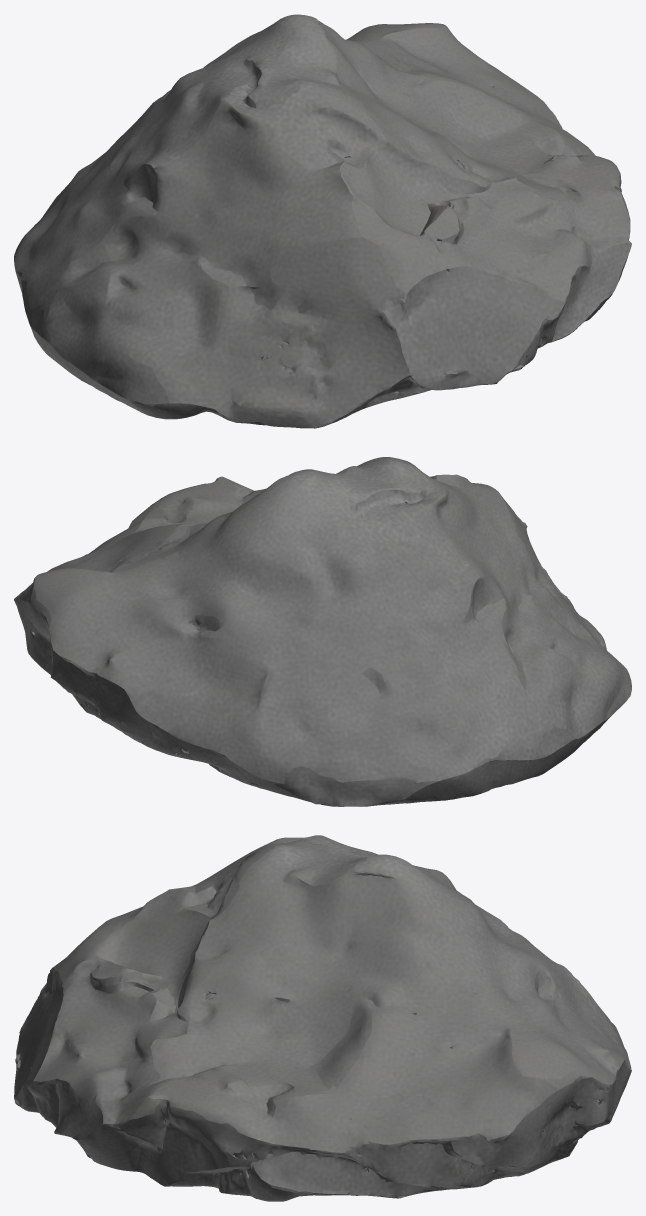
3 renders of one model, top to bottom at view 1: azimuth 30°, elevation 25°; view 2: azimuth 150°, elevation 25°; view 3: azimuth 270°, elevation 25°, orthographic. The views are drawn at different scales.
Visible parts, largest first — view 1: world; view 2: world; view 3: world.
Part boxes in pixels (left/top/right/bottom): world: left=14, top=14, right=631, bottom=428; world: left=14, top=457, right=631, bottom=806; world: left=14, top=835, right=631, bottom=1201.
Size of the model in its own units: 1.2 by 0.5779 by 1.19.
Materials: 1 (1 with a texture image).
